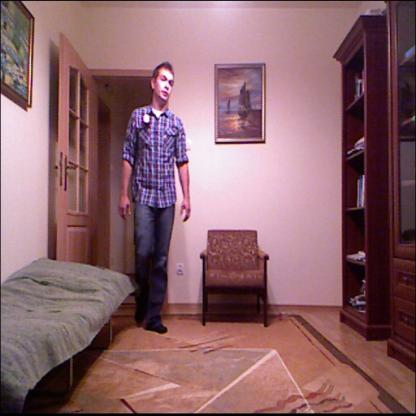normal: (122, 57, 194, 333)
